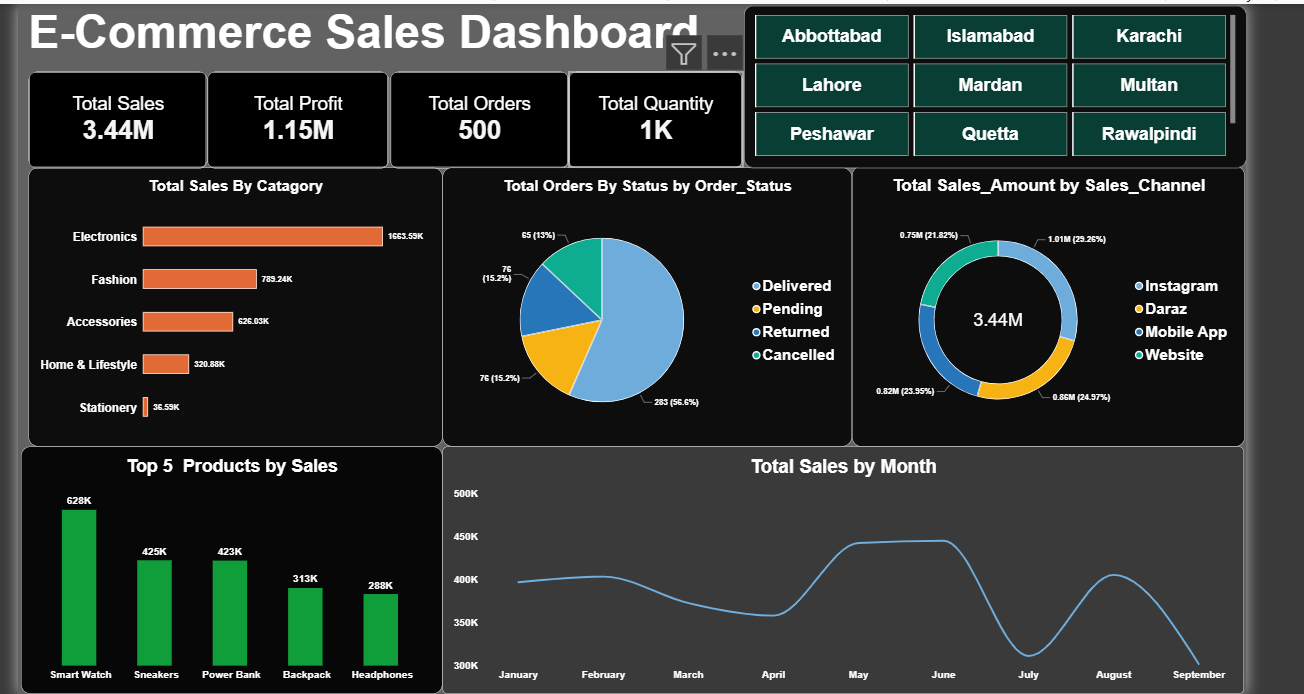

What the dashboard file says about the page in this screenshot:
{"tool":"powerbi","page":{"name":"Page 1","canvas":[1920,1080],"ordinal":0},"visuals":[{"type":"clusteredBarChart","title":"Total Sales By Catagory","fields":{"Category":["Sales_Data.Category"],"Y":["Sum(Sales_Data.Sales_Amount)"]},"box":[16.4,255.5,647.1,436.1],"z":0},{"type":"textbox","box":[16.6,2.4,1117.4,83],"z":1000},{"type":"cardVisual","fields":{"Data":["Sum(Sales_Data.Sales_Amount)"]},"box":[16.6,104.4,279.9,151.8],"z":2000},{"type":"cardVisual","fields":{"Data":["Sum(Sales_Data.Profit)"]},"box":[296.5,104.4,284.7,151.8],"z":3000},{"type":"cardVisual","fields":{"Data":["CountNonNull(Sales_Data.Order_ID)"]},"box":[581.2,104.4,279.9,151.8],"z":4000},{"type":"cardVisual","fields":{"Data":["Sum(Sales_Data.Quantity)"]},"box":[861.2,104.4,272.8,151.8],"z":5000},{"type":"donutChart","fields":{"Category":["Sales_Data.Sales_Channel"],"Y":["Sum(Sales_Data.Sales_Amount)"]},"box":[1303.5,253.2,614.3,438.4],"z":6000},{"type":"clusteredColumnChart","fields":{"Category":["Sales_Data.Product_Name"],"Y":["Sum(Sales_Data.Sales_Amount)"]},"box":[4.7,691.6,658.8,386.8],"z":7000},{"type":"pieChart","fields":{"Category":["Sales_Data.Order_Status"],"Y":["CountNonNull(Sales_Data.Order_ID)"]},"box":[663.5,255.5,640,436.1],"z":8000},{"type":"lineChart","fields":{"Category":["Sales_Data.Order_Date.Variation.Date Hierarchy.Month"],"Y":["Sum(Sales_Data.Sales_Amount)"]},"box":[664.3,692.7,1252.6,386.7],"z":9000},{"type":"advancedSlicerVisual","fields":{"Values":["Sales_Data.City"]},"box":[1134,2.4,785.2,253.8],"z":10000}]}

Visuals, with their boxes in screenshot pixels (x1, y1, x2, y2):
"Total Sales By Catagory" clusteredBarChart: 31,162,440,437
textbox: 31,2,738,54
cardVisual - Sum(Sales_Data.Sales_Amount): 31,66,208,162
cardVisual - Sum(Sales_Data.Profit): 208,66,388,162
cardVisual - CountNonNull(Sales_Data.Order_ID): 388,66,565,162
cardVisual - Sum(Sales_Data.Quantity): 565,66,738,162
donutChart - Sales_Data.Sales_Channel x Sum(Sales_Data.Sales_Amount): 845,160,1234,437
clusteredColumnChart - Sales_Data.Product_Name x Sum(Sales_Data.Sales_Amount): 23,437,440,682
pieChart - Sales_Data.Order_Status x CountNonNull(Sales_Data.Order_ID): 440,162,845,437
lineChart - Sales_Data.Order_Date.Variation.Date Hierarchy.Month x Sum(Sales_Data.Sales_Amount): 441,438,1233,683
advancedSlicerVisual - Sales_Data.City: 738,2,1234,162
